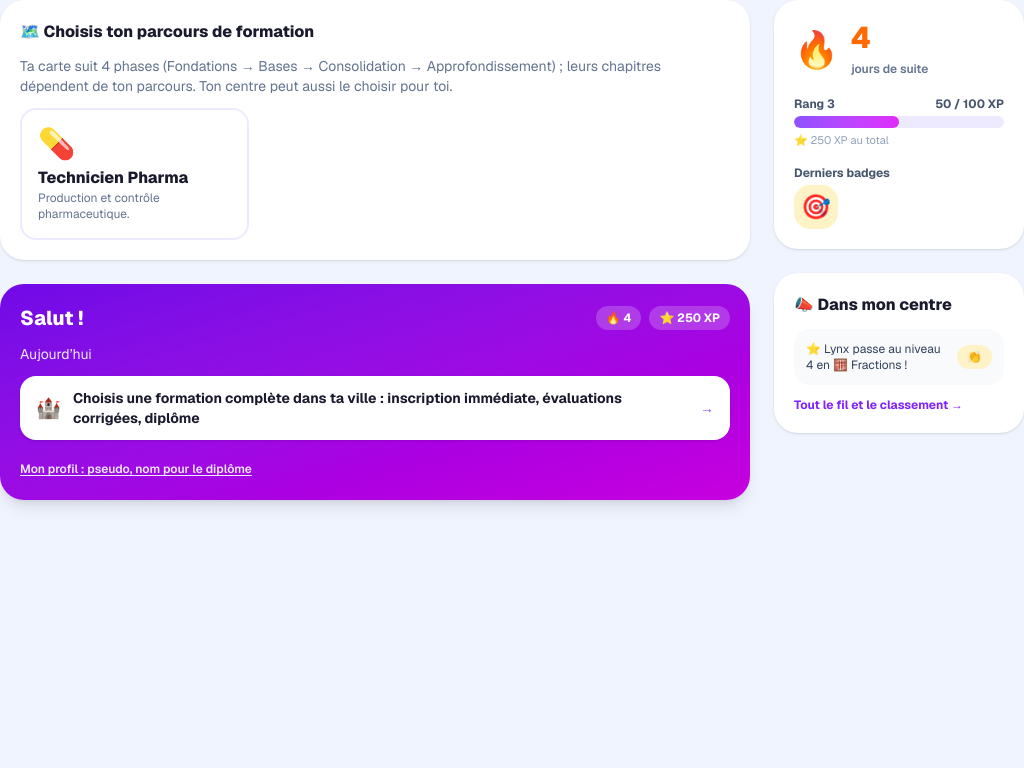
Test case: catalogue edited by the parent company › a path created in the database is offered to the learner and drives the map
This screenshot has width=1024, height=768.
Click the button "💊 Technicien Pharma Production et contrôle pharmaceutique.". click: (134, 174)
box: [20,108,249,240]
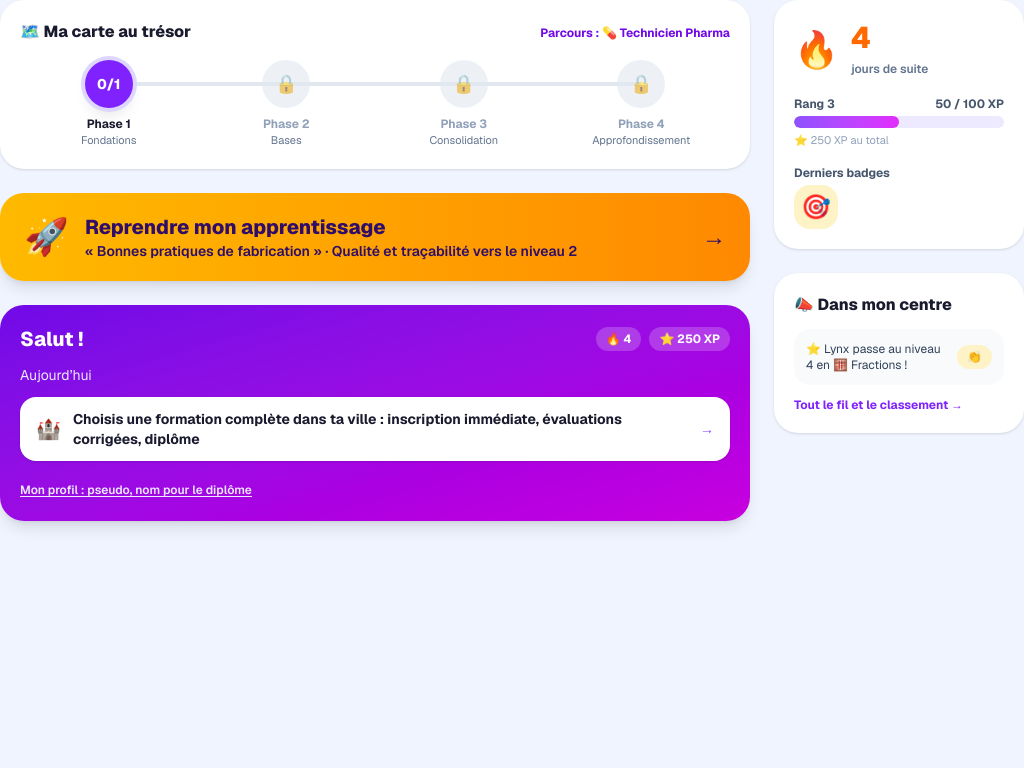
Click the button named "Phase 1 : Fondations". click: (109, 84)
box: [85,60,133,108]
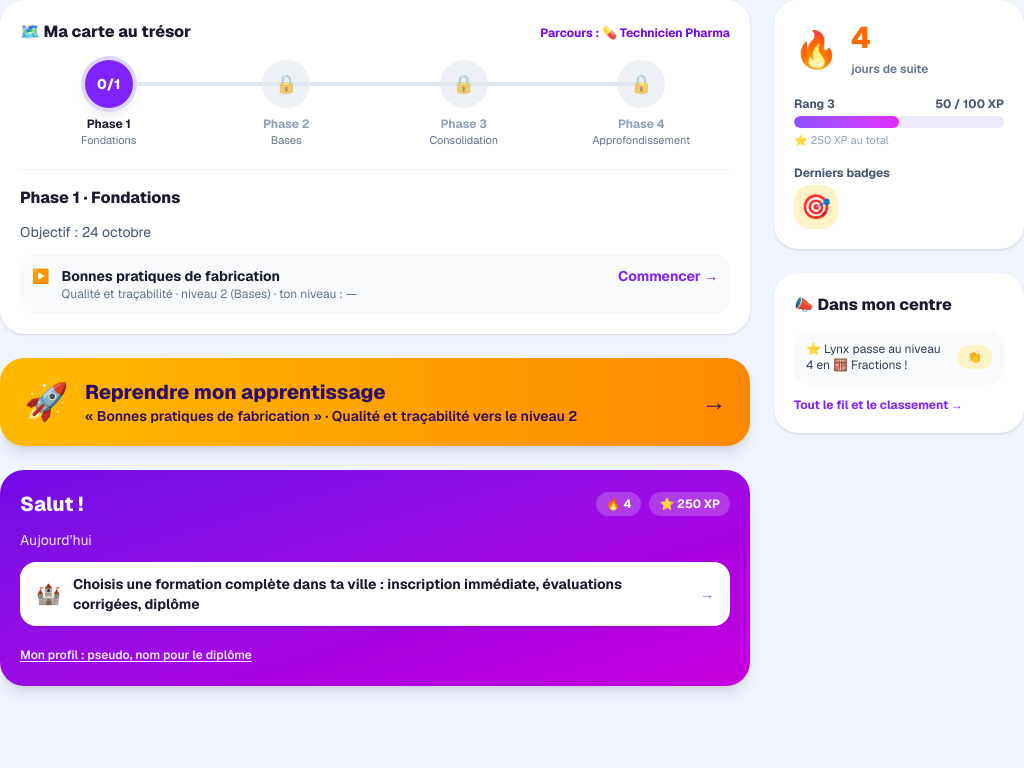
Result: the text "Bonnes pratiques de fabrication" is shown at [62,266,280,284]
